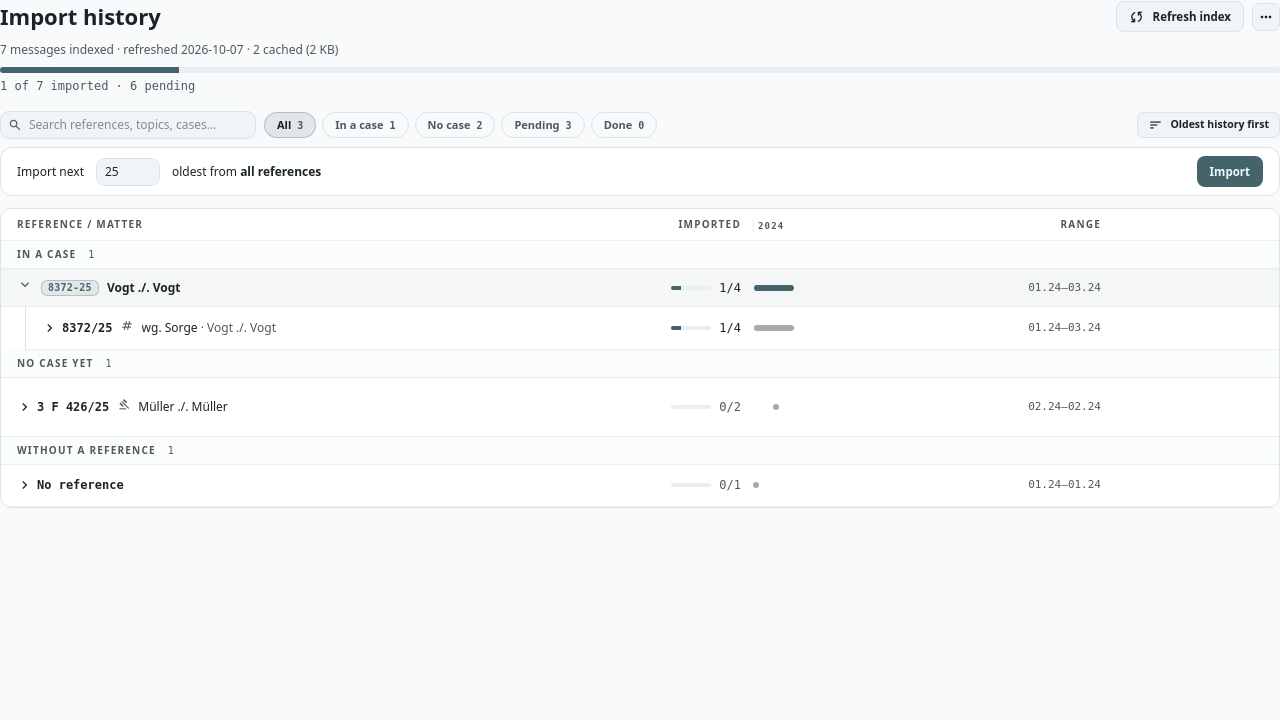
Test: import: clearing the cache asks first and says it only touches local copies
The image size is (1280, 720).
Step 1. Click the button named "More actions" → click(1266, 16), box [1252,2,1279,30]
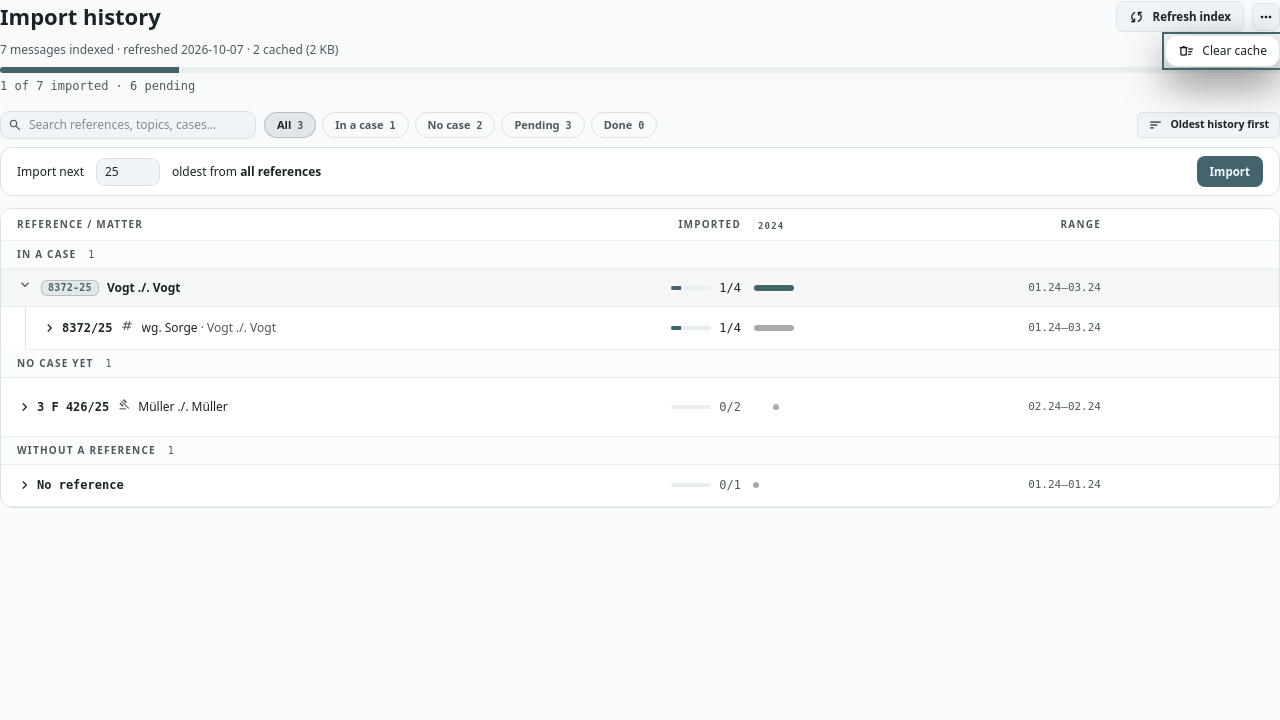
Step 2. Click the menu item "Clear cache" → click(1223, 50), box [1166,36,1279,66]
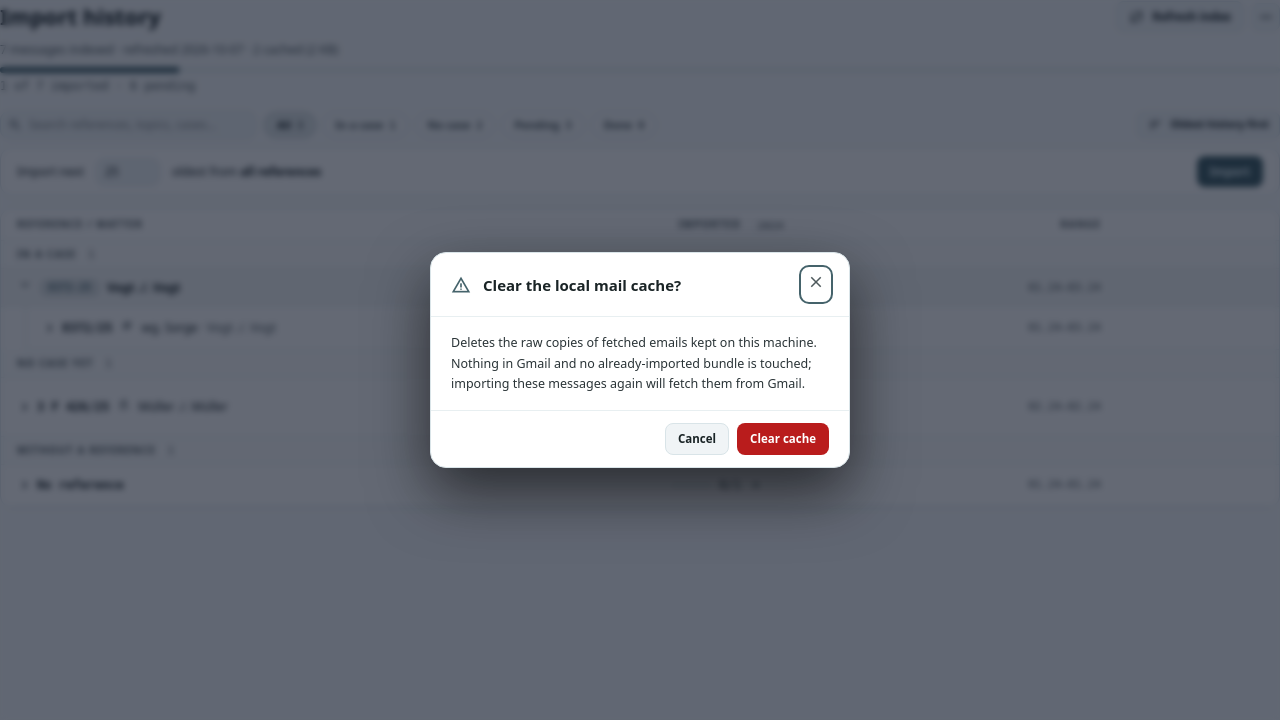
Expected: the dialog shows "Nothing in Gmail and no already-imported bundle is touched", [451,334,817,392]
Step 3. Click the button "Clear cache" → click(783, 439), box [737,423,829,455]
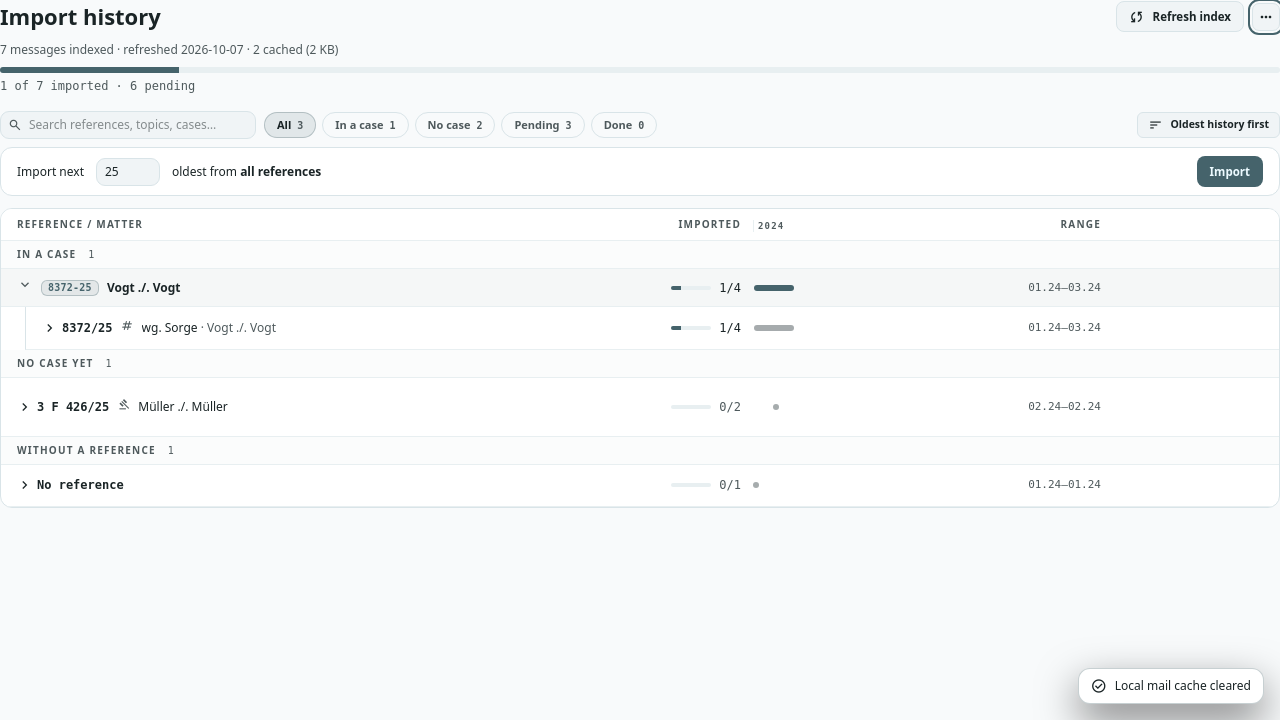
Expected: the message reads "Local mail cache cleared", [1115,677,1251,694]
